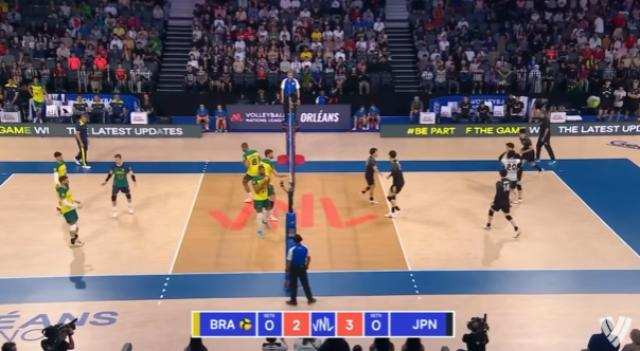Levantador: (54, 174, 90, 248), (359, 142, 385, 204)
Libero: (98, 151, 144, 220), (500, 149, 528, 188)
